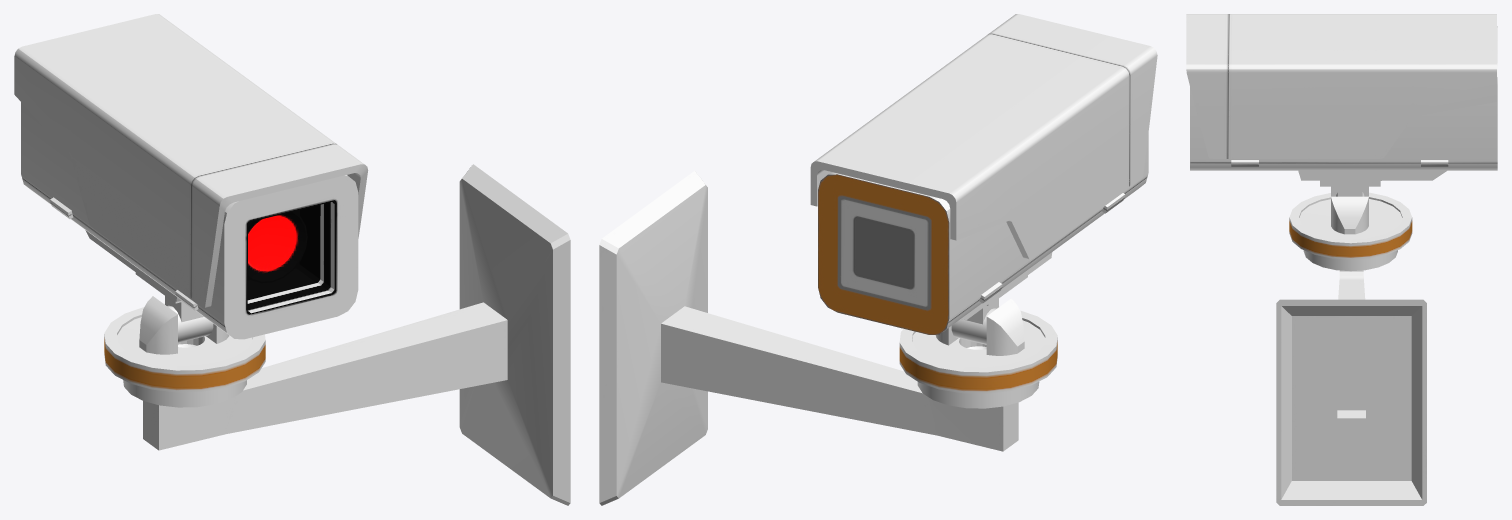
The model's file is security_camera.glb.
The picture shows the model from 3 angles, left to right: view 1: azimuth 30°, elevation 25°; view 2: azimuth 150°, elevation 25°; view 3: azimuth 270°, elevation 25°; orthographic projection. The views are drawn at different scales.
Visible parts, largest first — view 1: Object_2; view 2: Object_2; view 3: Object_2.
Boxes of the visible parts, x1,y1,x2,y2 form: Object_2: (14, 14, 570, 505); Object_2: (599, 14, 1157, 505); Object_2: (1186, 14, 1497, 505).
Bounding box in the file's own units: 3.09 × 3.26 × 2.68.
Materials: 1 (1 with a texture image).
